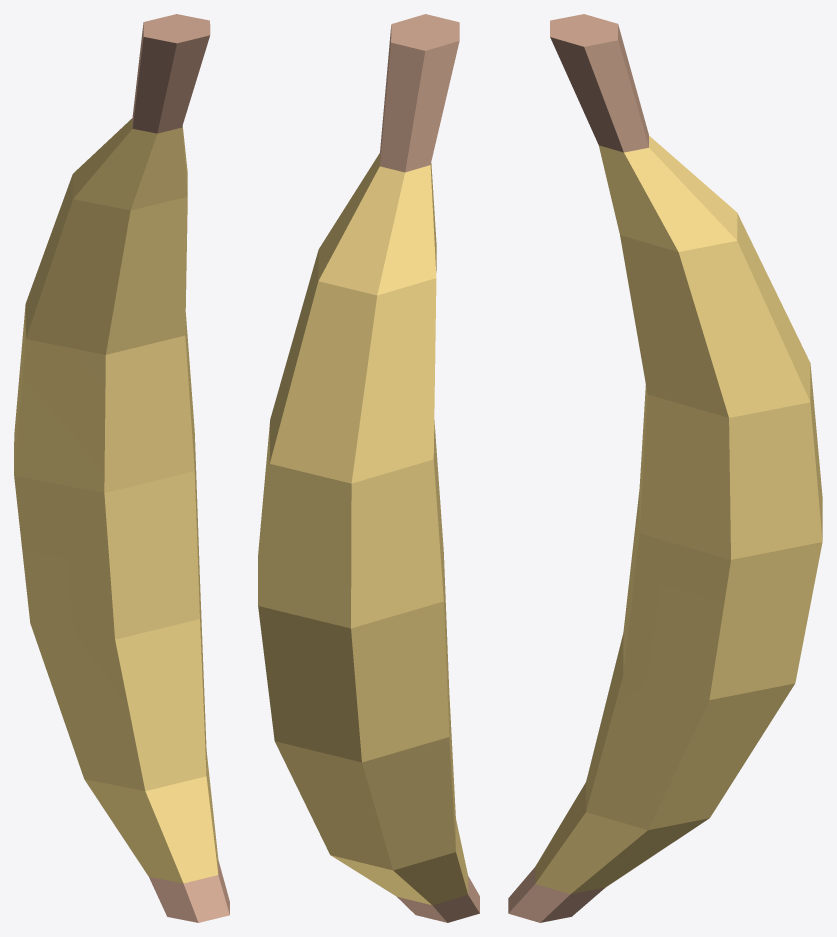
The model's file is banana2.glb.
The picture shows the model from 3 angles, left to right: view 1: azimuth 30°, elevation 25°; view 2: azimuth 150°, elevation 25°; view 3: azimuth 270°, elevation 25°; orthographic projection. The views are drawn at different scales.
Parts seen in each view (by area): view 1: banana; view 2: banana; view 3: banana.
Boxes of the visible parts, <box> form: banana: <box>14,14,229,922</box>; banana: <box>258,14,479,922</box>; banana: <box>508,14,822,922</box>.
Bounding box in the file's own units: 0.1376 × 0.6315 × 0.2043.
